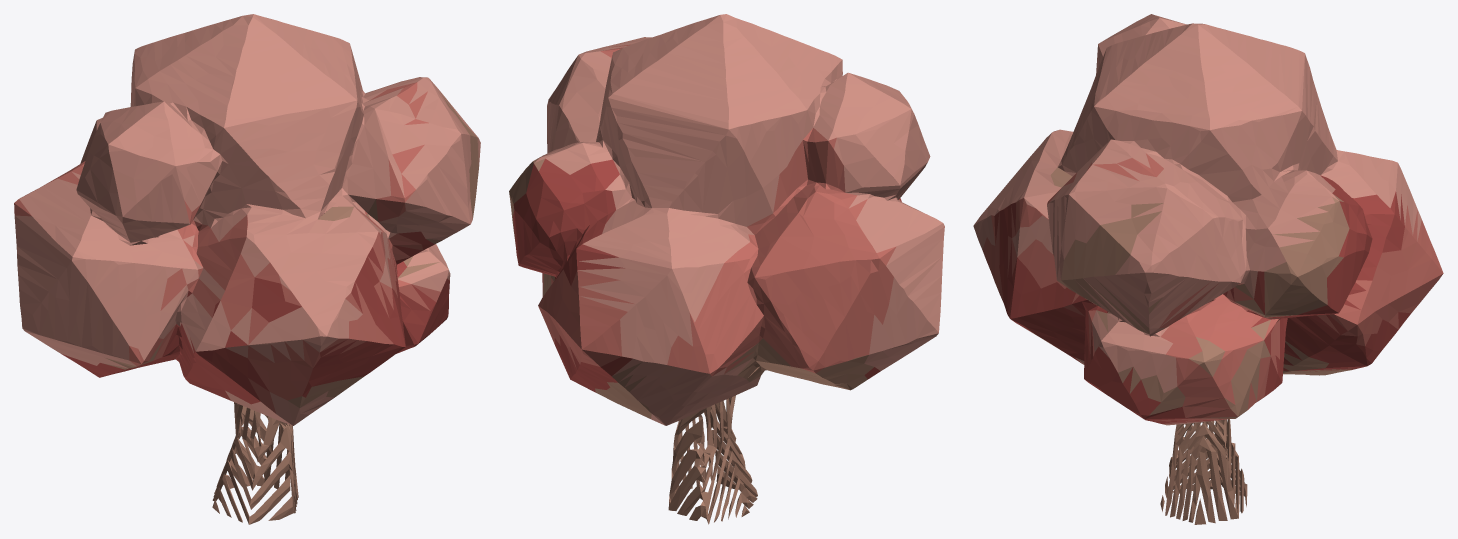
The model's file is coral_tree.glb.
The picture shows the model from 3 angles, left to right: view 1: azimuth 30°, elevation 25°; view 2: azimuth 150°, elevation 25°; view 3: azimuth 270°, elevation 25°; orthographic projection. The views are drawn at different scales.
Parts seen in each view (by area): view 1: geometry_0; view 2: geometry_0; view 3: geometry_0.
Part boxes in pixels (left/top/right/bottom): geometry_0: left=14, top=14, right=480, bottom=524; geometry_0: left=509, top=14, right=944, bottom=524; geometry_0: left=973, top=14, right=1443, bottom=524.
Bounding box in the file's own units: 1.79 × 1.99 × 1.76.
